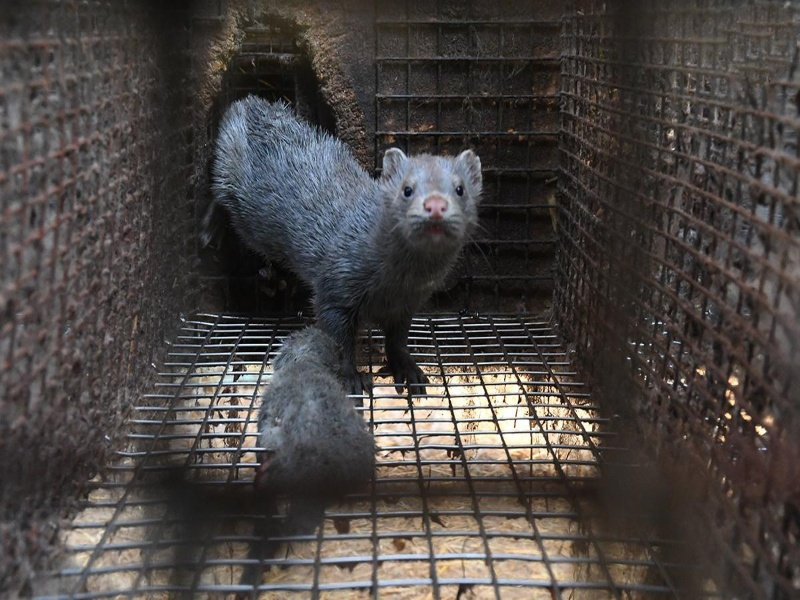minkish: (207, 94, 490, 398)
